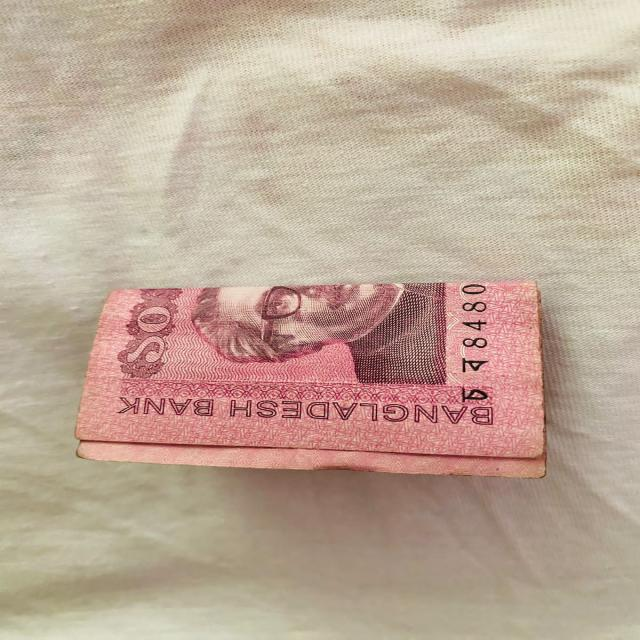Taka: (81, 286, 548, 477)
